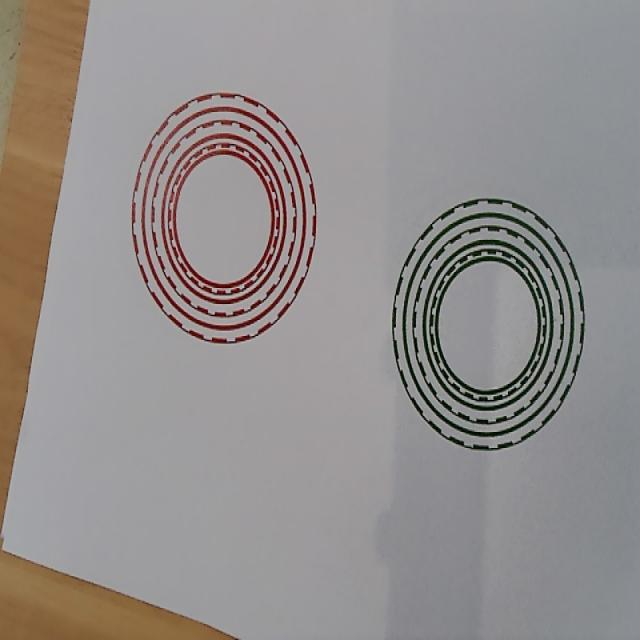g: (391, 196, 585, 452)
red-green-blue: (131, 90, 317, 343)
